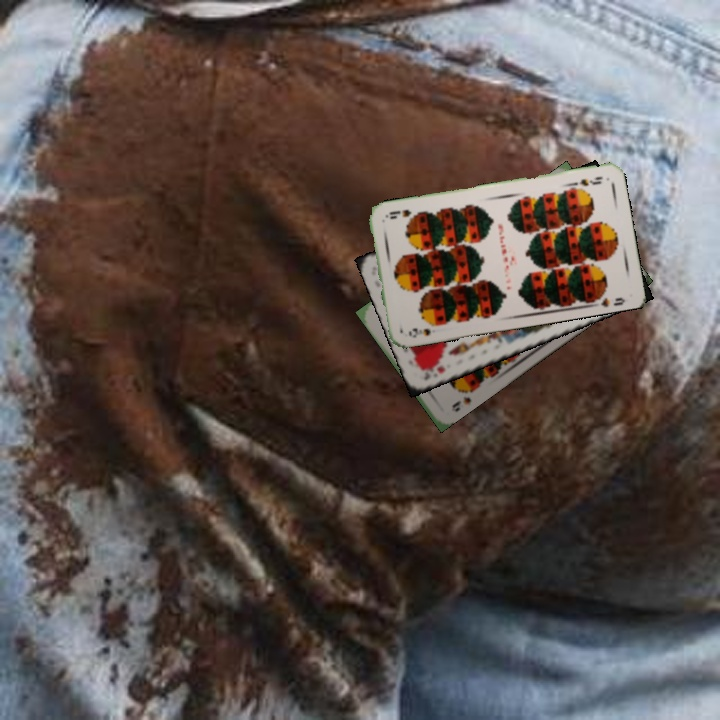HK: (418, 359, 448, 383)
S9: (448, 383, 478, 414), (404, 318, 443, 340), (575, 172, 605, 188)
